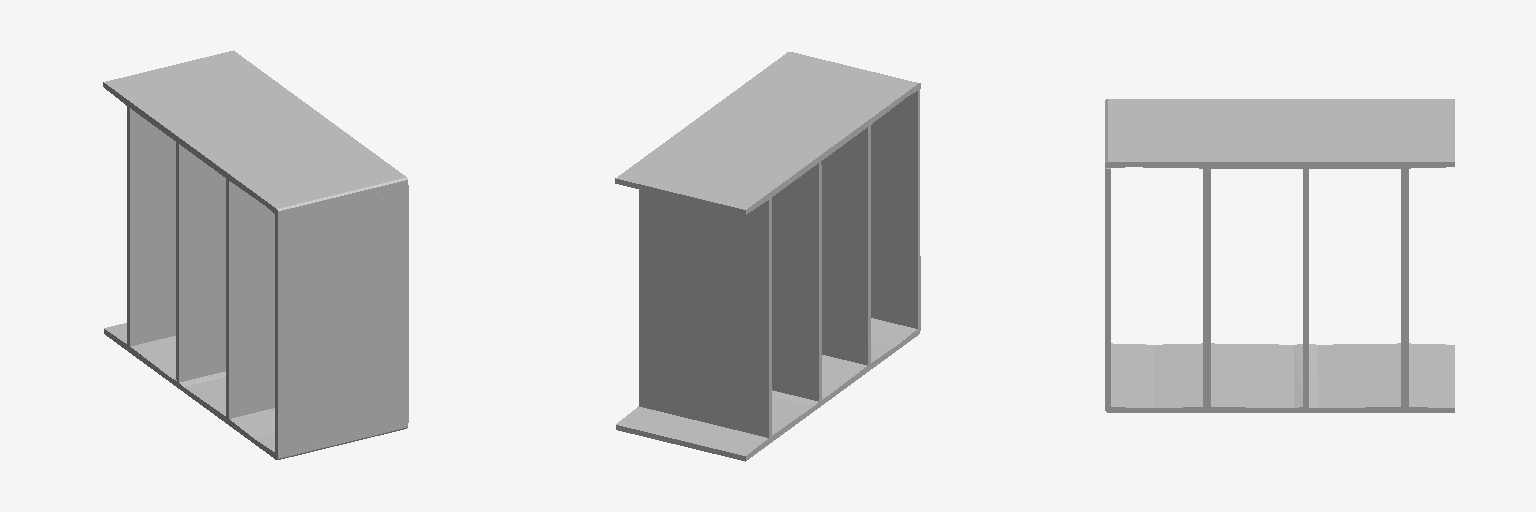
Rendered from bookshelves_center.obj.
3 views of the same model, side by side, from view 1: azimuth 30°, elevation 25°; view 2: azimuth 150°, elevation 25°; view 3: azimuth 270°, elevation 25° (orthographic).
Visible parts, largest first — view 1: convex_1.001, convex_0.001, convex_6.001, convex_8.001, convex_4.001, convex_2.001, convex_7.001, convex_3.001, convex_9.001; view 2: convex_4.001, convex_0.001, convex_6.001, convex_1.001, convex_8.001, convex_3.001, convex_7.001, convex_2.001, convex_9.001; view 3: convex_0.001, convex_7.001, convex_3.001, convex_9.001, convex_4.001, convex_8.001, convex_2.001, convex_1.001, convex_6.001, convex_5.001.
Boxes of the visible parts, x1=… form: convex_1.001: x1=275, y1=185, x2=408, y2=454; convex_0.001: x1=103, y1=50, x2=395, y2=205; convex_6.001: x1=176, y1=142, x2=225, y2=382; convex_8.001: x1=226, y1=179, x2=274, y2=418; convex_4.001: x1=127, y1=106, x2=175, y2=346; convex_2.001: x1=266, y1=170, x2=407, y2=216; convex_7.001: x1=184, y1=377, x2=274, y2=442; convex_3.001: x1=104, y1=323, x2=175, y2=382; convex_9.001: x1=254, y1=424, x2=407, y2=459; convex_4.001: x1=639, y1=189, x2=771, y2=437; convex_0.001: x1=615, y1=59, x2=907, y2=214; convex_6.001: x1=772, y1=162, x2=821, y2=401; convex_1.001: x1=871, y1=89, x2=920, y2=328; convex_8.001: x1=821, y1=125, x2=870, y2=365; convex_3.001: x1=616, y1=396, x2=813, y2=461; convex_7.001: x1=822, y1=340, x2=895, y2=401; convex_2.001: x1=779, y1=52, x2=920, y2=95; convex_9.001: x1=871, y1=318, x2=920, y2=350; convex_0.001: x1=1130, y1=99, x2=1454, y2=168; convex_7.001: x1=1154, y1=343, x2=1293, y2=412; convex_3.001: x1=1318, y1=343, x2=1454, y2=412; convex_9.001: x1=1105, y1=343, x2=1153, y2=412; convex_4.001: x1=1401, y1=169, x2=1408, y2=406; convex_8.001: x1=1203, y1=169, x2=1210, y2=406; convex_2.001: x1=1105, y1=99, x2=1129, y2=168; convex_1.001: x1=1105, y1=168, x2=1110, y2=406; convex_6.001: x1=1303, y1=169, x2=1308, y2=406; convex_5.001: x1=1294, y1=344, x2=1317, y2=412.
Bounding box in the file's own units: 0.6085 × 1.12 × 1.42.